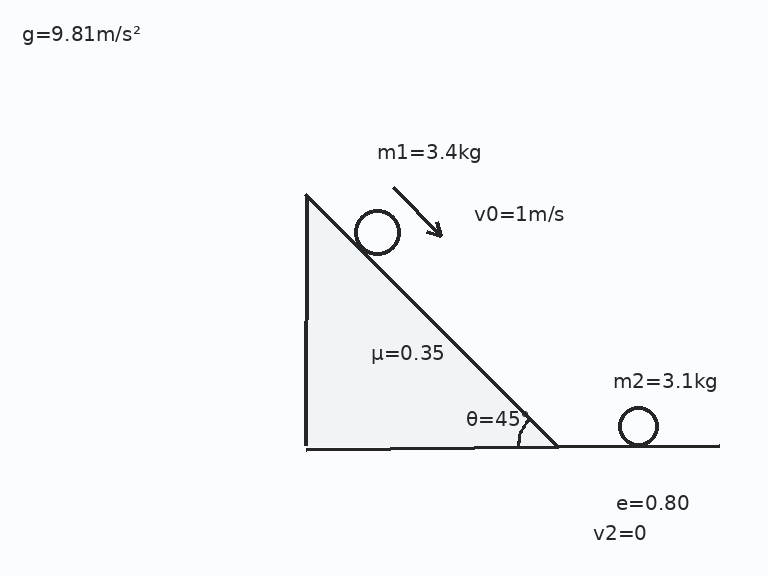ball: (352, 207, 402, 257), (616, 404, 660, 448)
ramp: (304, 192, 560, 448)
